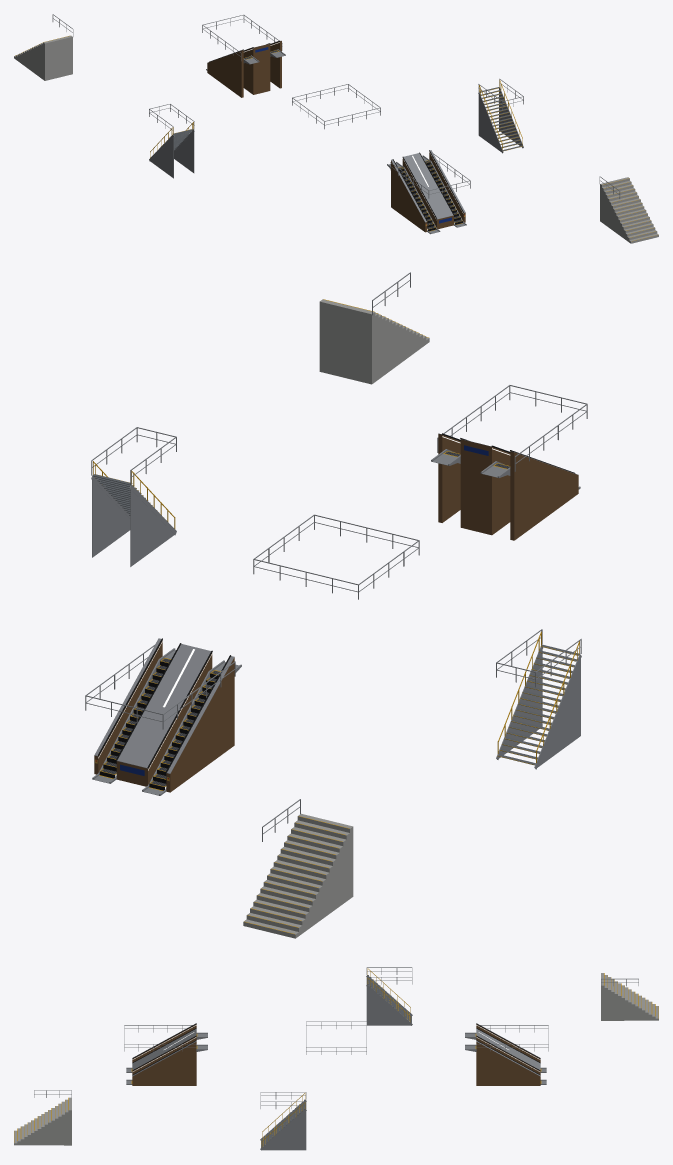
The model's file is ug-escalators.glb.
The picture shows the model from 3 angles, top to bottom: view 1: azimuth 30°, elevation 25°; view 2: azimuth 150°, elevation 25°; view 3: azimuth 270°, elevation 25°; orthographic projection. The views are drawn at different scales.
Visible parts, largest first — view 1: ug-escalators; view 2: ug-escalators; view 3: ug-escalators.
Part boxes in pixels (x1,y1,x2,y2): ug-escalators: [14, 14, 658, 243]; ug-escalators: [85, 272, 587, 938]; ug-escalators: [14, 967, 658, 1150].
Size of the model in its own units: 43 by 7.56 by 85.3.
